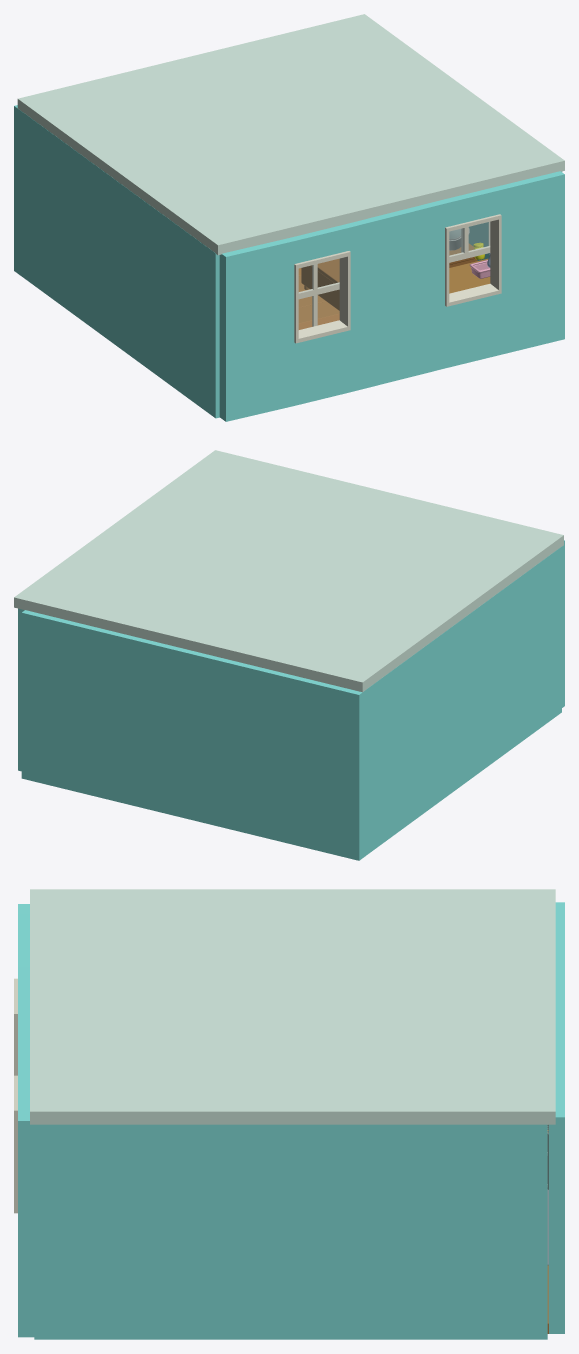
The model's file is cocina1.fbx.
3 views of the same model, one above another, from view 1: azimuth 30°, elevation 25°; view 2: azimuth 150°, elevation 25°; view 3: azimuth 270°, elevation 25° (orthographic). The views are drawn at different scales.
Visible parts, largest first — view 1: techo, Wall_03d.001, Room_01a, Plane.001, Plane, CenterTable_01a, MetalTable_01b; view 2: Room_01a, techo, Wall_03d; view 3: techo, Wall_03d, Wall_03d.001, Room_01a, Plane.
Boxes of the visible parts, x1=… form: techo: x1=17, y1=14, x2=564, y2=255; Wall_03d.001: x1=219, y1=171, x2=564, y2=421; Room_01a: x1=14, y1=105, x2=339, y2=418; Plane.001: x1=294, y1=251, x2=350, y2=343; Plane: x1=445, y1=214, x2=501, y2=306; CenterTable_01a: x1=301, y1=243, x2=477, y2=310; MetalTable_01b: x1=449, y1=258, x2=490, y2=293; Room_01a: x1=21, y1=546, x2=561, y2=860; techo: x1=14, y1=450, x2=563, y2=692; Wall_03d: x1=18, y1=608, x2=24, y2=771; techo: x1=30, y1=889, x2=555, y2=1124; Wall_03d: x1=34, y1=1124, x2=547, y2=1339; Wall_03d.001: x1=18, y1=904, x2=34, y2=1337; Room_01a: x1=547, y1=902, x2=564, y2=1333; Plane: x1=14, y1=1075, x2=17, y2=1213.
Size of the model in its own units: 1454 by 700 by 1524.
